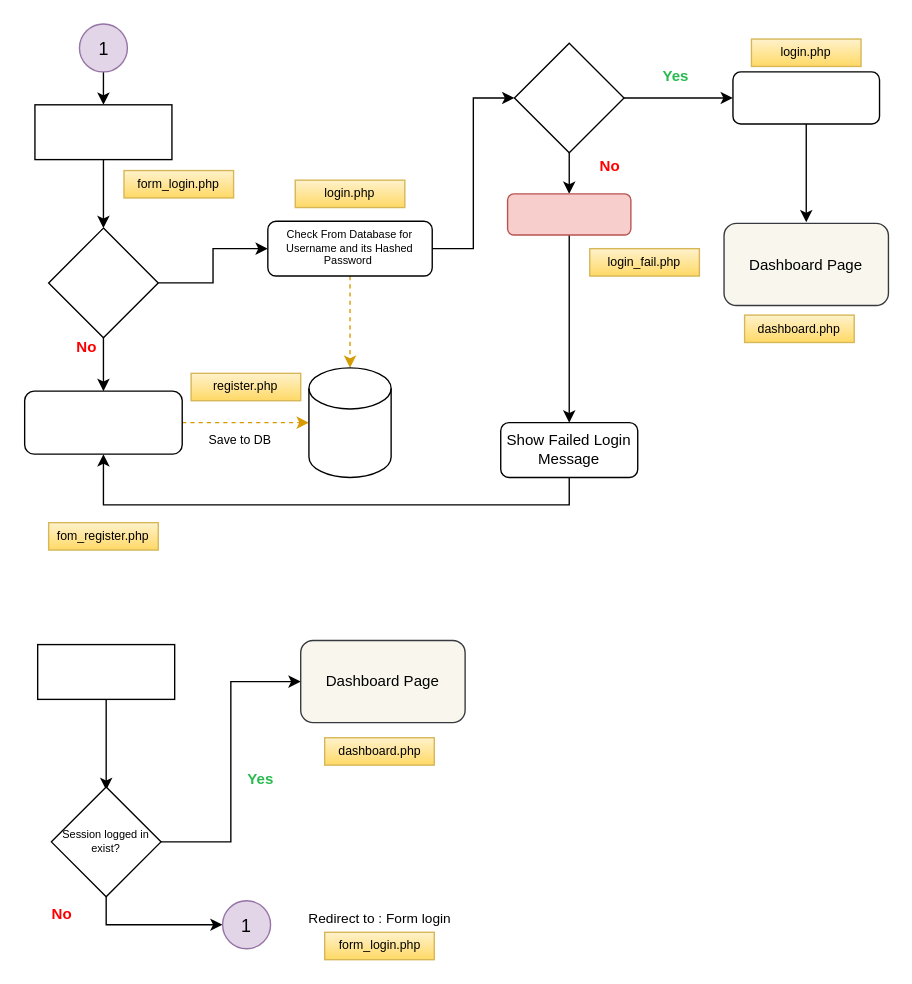
Image size: 912x984. Some labels were removed from this diagram. The box of each missing label's shape, as (x1, y1, x2, y2) in pixels:
Access the Dashboard: (36, 643, 175, 699)
DB: (308, 366, 391, 477)
Form Login: (34, 103, 172, 160)
Login Failed: (506, 192, 631, 235)
Password & Username match: (513, 42, 624, 153)
registered?: (47, 227, 158, 338)
Registration Page: (23, 390, 182, 454)
session created: (732, 71, 880, 124)
